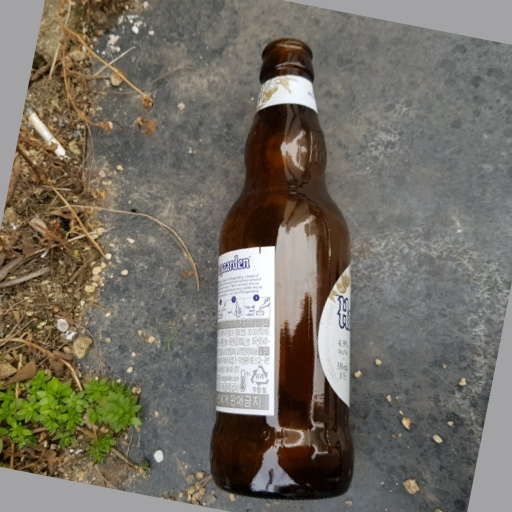Glass_1: (203, 36, 366, 499)
